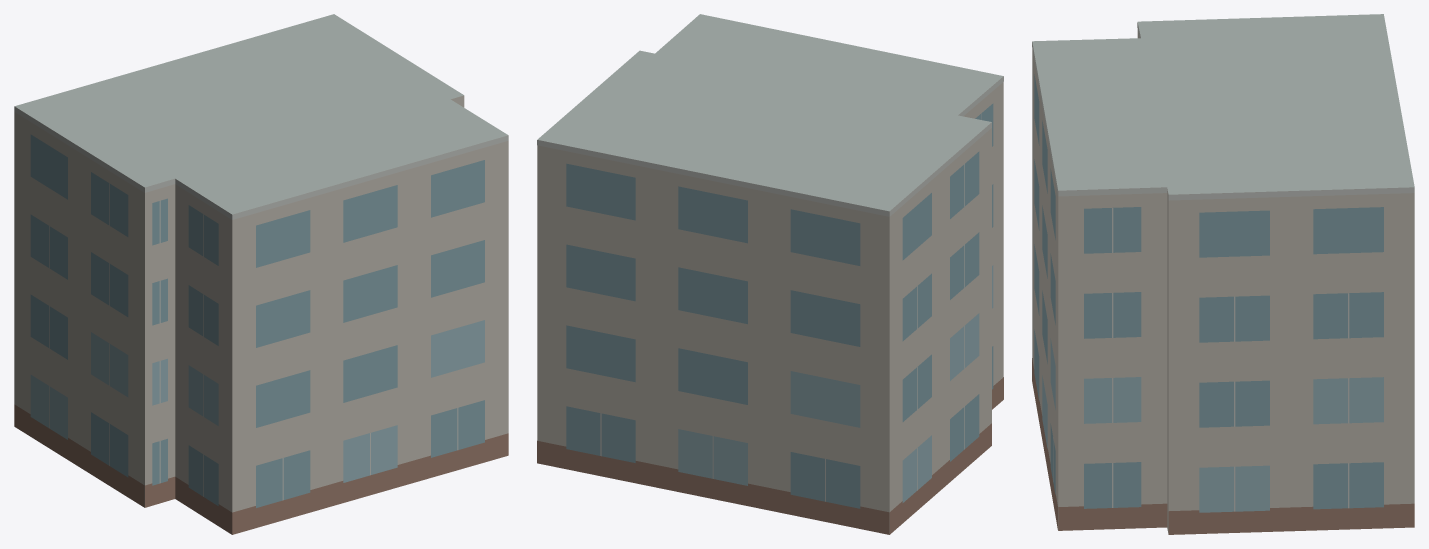
The model's file is survey-upis-32474521.glb.
3 renders of one model, left to right at view 1: azimuth 30°, elevation 25°; view 2: azimuth 150°, elevation 25°; view 3: azimuth 270°, elevation 25°, orthographic. The views are drawn at different scales.
Visible parts, largest first — view 1: survey-upis-32474521.tmp; view 2: survey-upis-32474521.tmp; view 3: survey-upis-32474521.tmp.
Boxes of the visible parts, x1=… form: survey-upis-32474521.tmp: x1=14, y1=14, x2=508, y2=534; survey-upis-32474521.tmp: x1=537, y1=14, x2=1003, y2=534; survey-upis-32474521.tmp: x1=1032, y1=14, x2=1414, y2=534.
Size of the model in its own units: 16.42 by 14.4 by 14.69.
